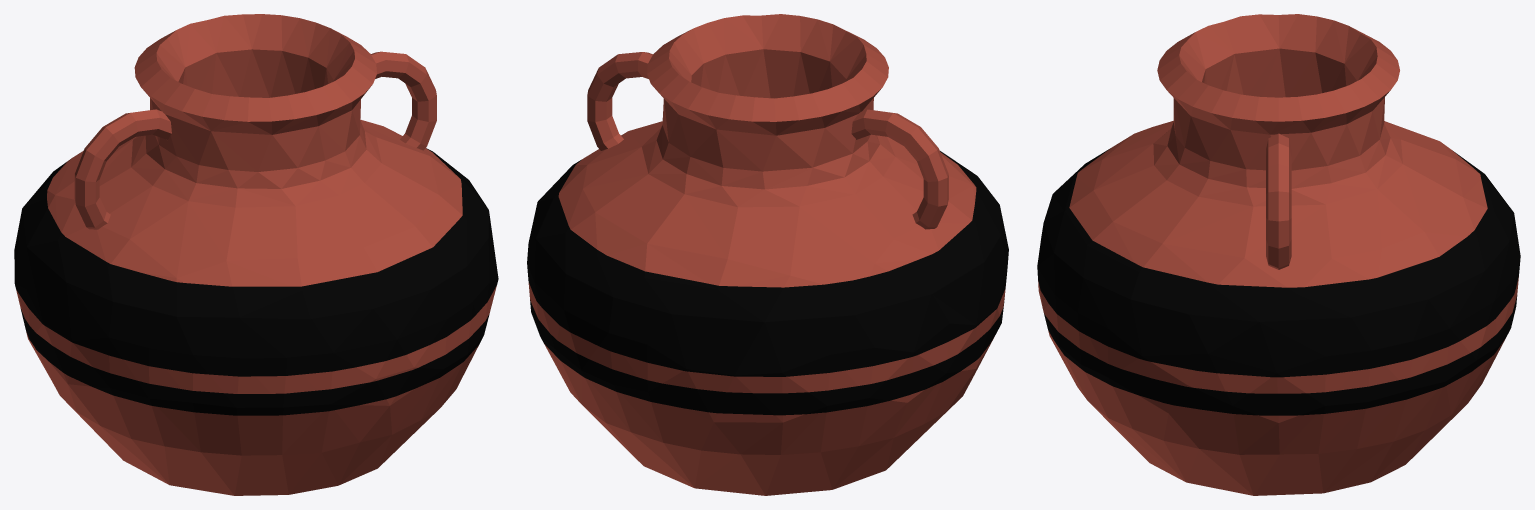
Rendered from Pottery 15_2b.fbx.
The picture shows the model from 3 angles, left to right: view 1: azimuth 30°, elevation 25°; view 2: azimuth 150°, elevation 25°; view 3: azimuth 270°, elevation 25°; orthographic projection.
Visible parts, largest first — view 1: Pottery 15_2b.008, Pottery 15_2b, Pottery 15_2b.003, Pottery 15_2b.009, Pottery 15_2b.001, Pottery 15_2b.004, Pottery 15_2b.007; view 2: Pottery 15_2b.009, Pottery 15_2b.006, Pottery 15_2b.007, Pottery 15_2b.001, Pottery 15_2b, Pottery 15_2b.004, Pottery 15_2b.005, Pottery 15_2b.008, Pottery 15_2b.003; view 3: Pottery 15_2b.004, Pottery 15_2b, Pottery 15_2b.003, Pottery 15_2b.005, Pottery 15_2b.007, Pottery 15_2b.009, Pottery 15_2b.008, Pottery 15_2b.006.
Part boxes in pixels (x1,y1,x2,y2): Pottery 15_2b.008: (108, 92, 396, 407); Pottery 15_2b: (65, 336, 483, 495); Pottery 15_2b.003: (306, 50, 498, 368); Pottery 15_2b.009: (14, 38, 211, 322); Pottery 15_2b.001: (15, 267, 192, 438); Pottery 15_2b.004: (270, 15, 498, 276); Pottery 15_2b.007: (147, 14, 282, 97); Pottery 15_2b.009: (718, 54, 984, 354); Pottery 15_2b.006: (555, 290, 830, 454); Pottery 15_2b.007: (595, 67, 776, 313); Pottery 15_2b.001: (827, 223, 1008, 446); Pottery 15_2b: (540, 337, 957, 495); Pottery 15_2b.004: (538, 23, 739, 201); Pottery 15_2b.005: (527, 174, 647, 348); Pottery 15_2b.008: (793, 19, 1008, 248); Pottery 15_2b.003: (708, 14, 817, 98); Pottery 15_2b.004: (1130, 85, 1381, 405); Pottery 15_2b: (1037, 268, 1476, 495); Pottery 15_2b.003: (1037, 55, 1240, 377); Pottery 15_2b.005: (1277, 189, 1509, 405); Pottery 15_2b.007: (1344, 34, 1513, 241); Pottery 15_2b.009: (1224, 14, 1484, 175); Pottery 15_2b.008: (1039, 22, 1243, 250); Pottery 15_2b.006: (1468, 174, 1520, 402).
Bounding box in the file's own units: 53.28 × 45.94 × 52.98.
